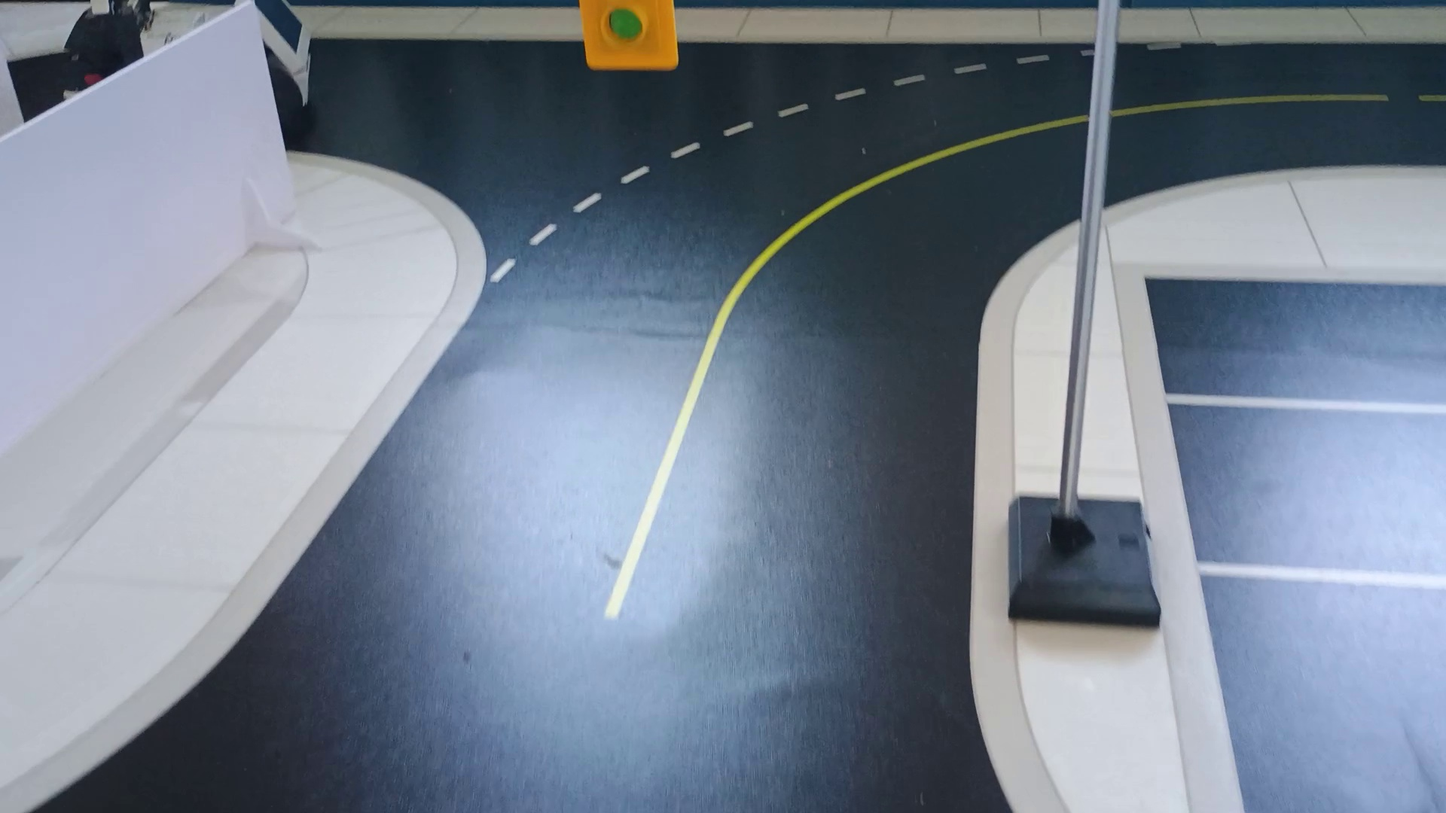Dashed: (490, 258, 514, 282), (529, 224, 556, 245), (573, 193, 601, 212), (621, 166, 649, 184), (671, 142, 700, 158), (725, 121, 752, 136), (778, 104, 808, 117), (894, 75, 925, 86), (836, 88, 865, 99), (955, 63, 986, 73), (1147, 42, 1182, 50), (1017, 55, 1048, 63), (1212, 42, 1260, 47), (1418, 94, 1445, 102), (1081, 49, 1094, 56)
Parking: (1168, 401, 1445, 583), (1148, 276, 1445, 409)
Solid: (605, 114, 1088, 618), (1112, 94, 1385, 117)
Street: (41, 40, 1091, 812), (1148, 279, 1445, 812), (1107, 45, 1445, 203)
